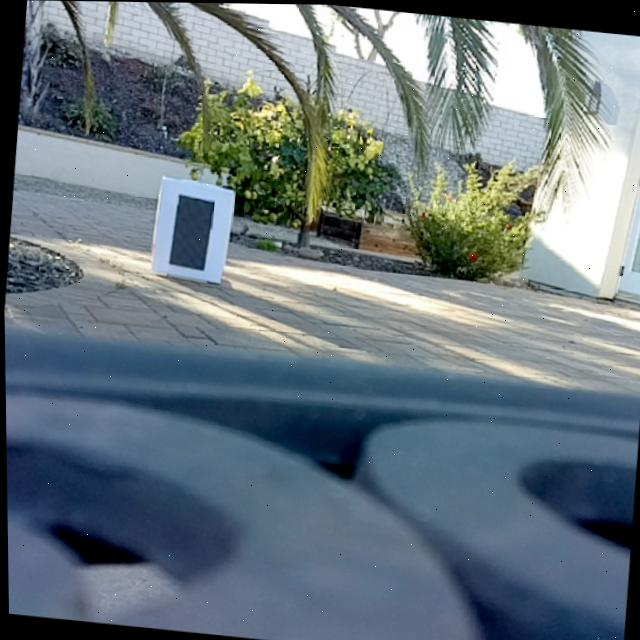led: (166, 191, 216, 272)
